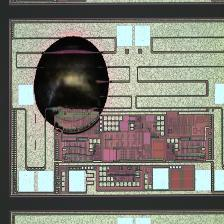PO CONTAMINATION: (31, 32, 115, 139)
